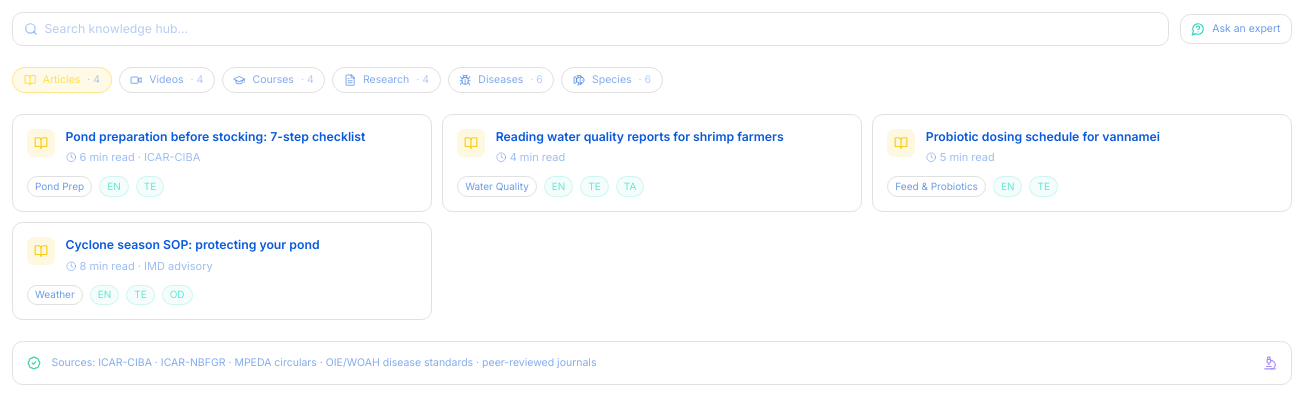
Test case: <KnowledgeHubModule /> › switches to the Diseases tab
Click the button "Diseases · 6" at x=501, y=80, box [448,66,554,93]
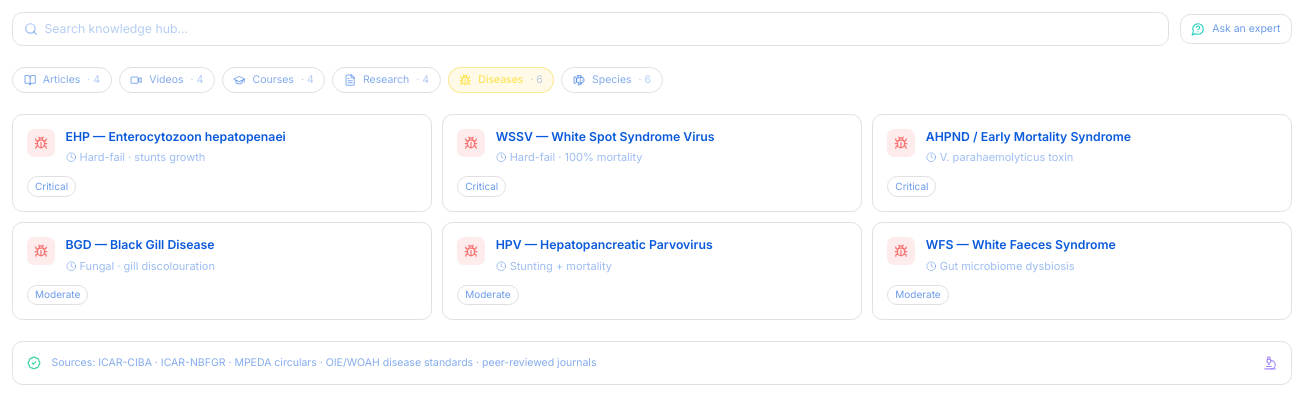
Now the text "EHP — Enterocytozoon hepatopenaei" is shown, box [66,129,286,144]
